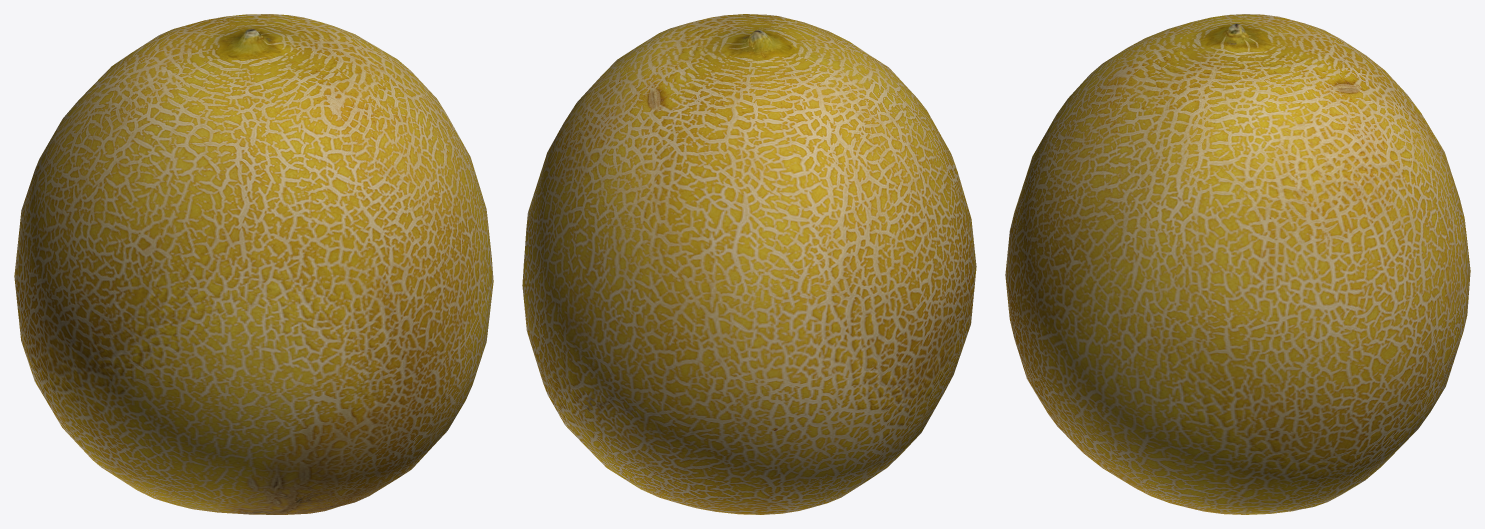
File: Honeydew.fbx
3 views of the same model, side by side, from view 1: azimuth 30°, elevation 25°; view 2: azimuth 150°, elevation 25°; view 3: azimuth 270°, elevation 25° (orthographic). The views are drawn at different scales.
Parts seen in each view (by area): view 1: melon-03_Sphere; view 2: melon-03_Sphere; view 3: melon-03_Sphere.
Boxes of the visible parts, x1=… form: melon-03_Sphere: x1=14, y1=14, x2=493, y2=514; melon-03_Sphere: x1=522, y1=14, x2=976, y2=514; melon-03_Sphere: x1=1005, y1=14, x2=1470, y2=514.
Bounding box in the file's own units: 25.17 × 27.6 × 25.47.
Materials: 1 (1 with a texture image).
